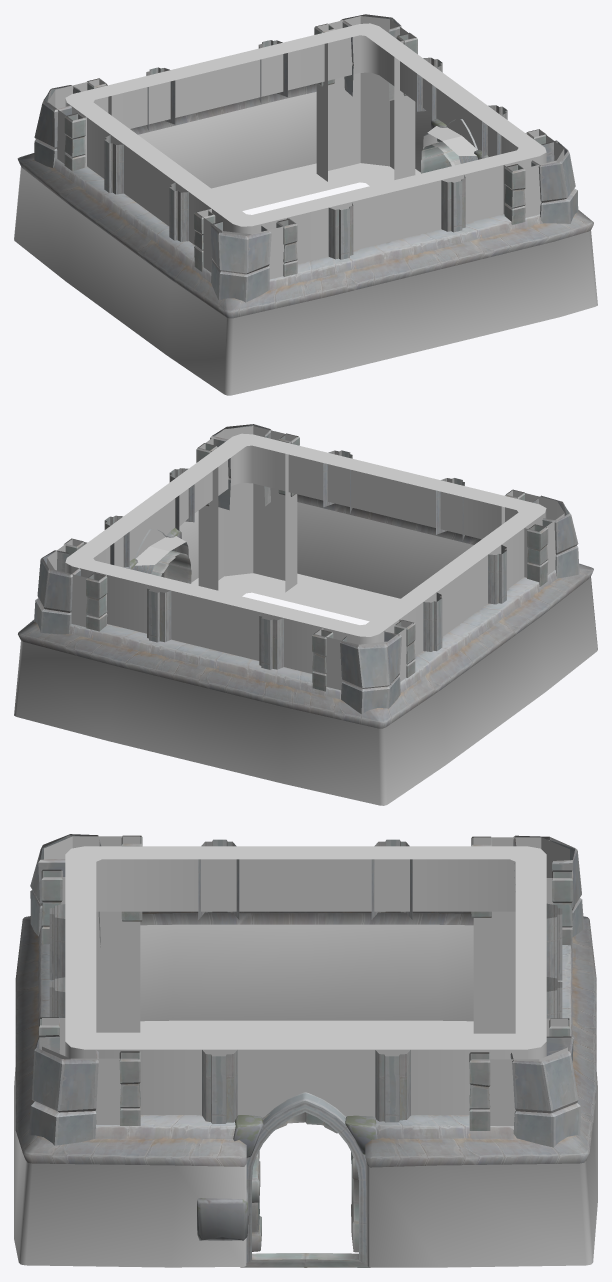
File: SM_TowerF_Bottom.fbx
3 renders of one model, top to bottom at view 1: azimuth 30°, elevation 25°; view 2: azimuth 150°, elevation 25°; view 3: azimuth 270°, elevation 25°, orthographic. The views are drawn at different scales.
Visible parts, largest first — view 1: SM_TowerF_Bottom_LOD0; view 2: SM_TowerF_Bottom_LOD0; view 3: SM_TowerF_Bottom_LOD0.
Part boxes in pixels (x1,y1,x2,y2): SM_TowerF_Bottom_LOD0: (14,14,597,395); SM_TowerF_Bottom_LOD0: (14,424,597,805); SM_TowerF_Bottom_LOD0: (14,834,597,1267).
Size of what is drawn, in the model's own units: 12.16 by 5.02 by 12.14.
